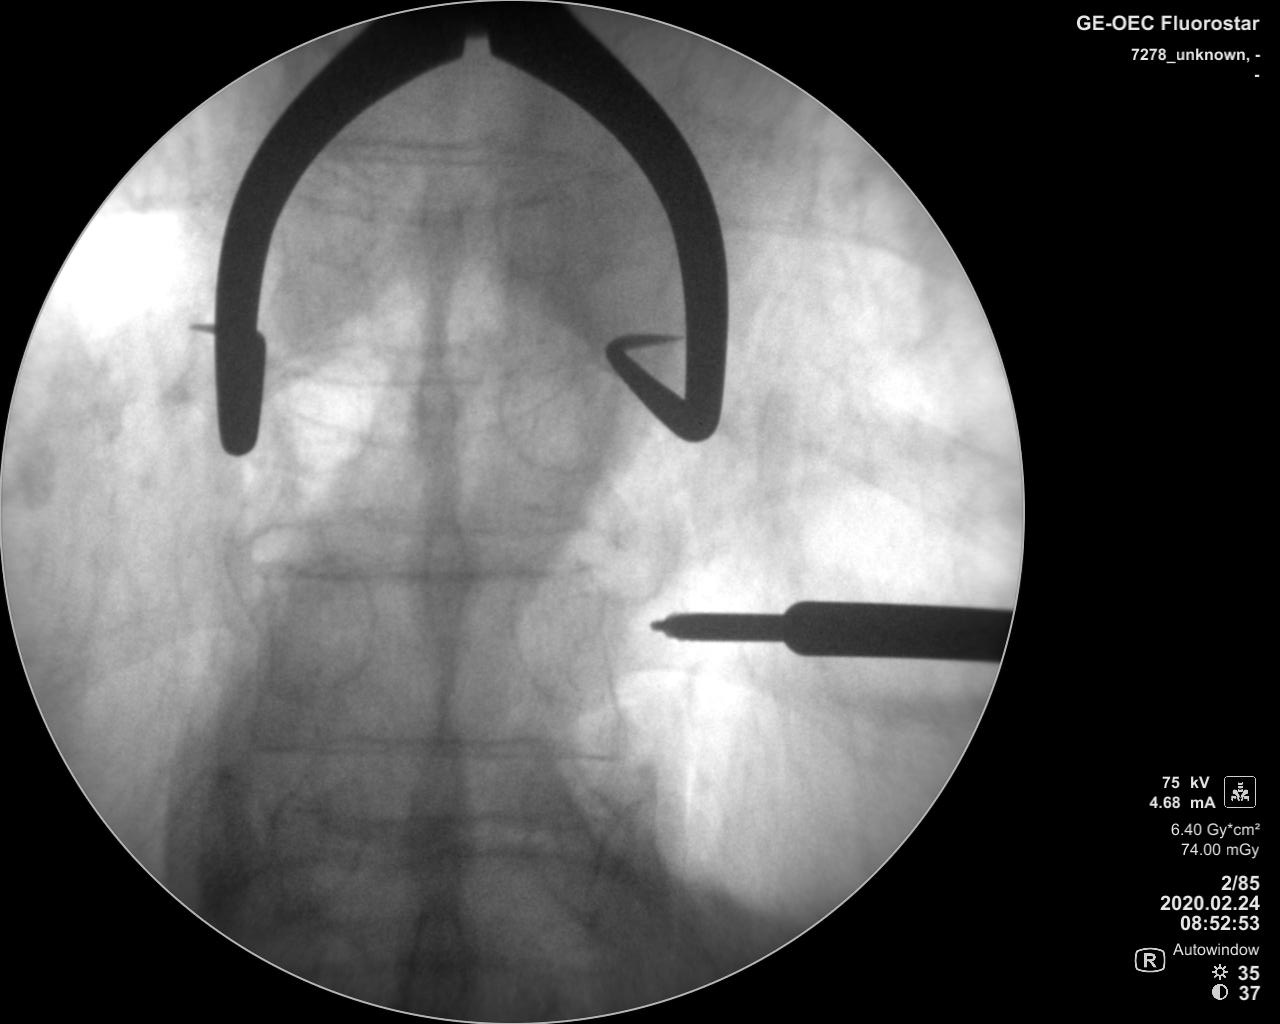eyes: (262, 552, 369, 703), (269, 343, 369, 480), (509, 566, 610, 700), (495, 347, 598, 474)
line: (225, 722, 630, 774), (229, 551, 614, 591), (338, 126, 591, 162)
nose: (404, 709, 474, 897), (415, 502, 467, 703), (403, 326, 462, 473), (408, 166, 469, 304), (396, 904, 472, 1011)
